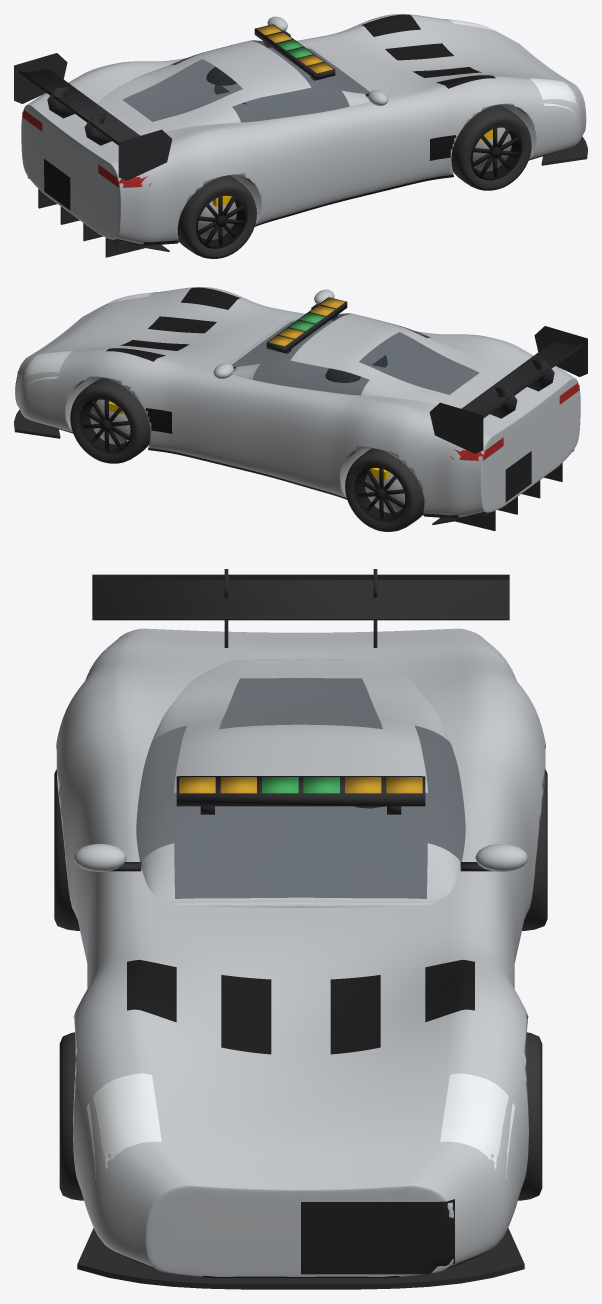
The model's file is safety_car_amg_gt_black_series.glb.
3 renders of one model, top to bottom at view 1: azimuth 30°, elevation 25°; view 2: azimuth 150°, elevation 25°; view 3: azimuth 270°, elevation 25°, orthographic. The views are drawn at different scales.
Visible parts, largest first — view 1: body, cabin, bumper_rear, wing_rear, wheel_fr_spin, wheel_rr_spin, bumper_front, light_bar, diffuser, splitter, interior; view 2: body, cabin, bumper_rear, wing_rear, wheel_fl_spin, wheel_rl_spin, bumper_front, light_bar, diffuser, splitter, interior; view 3: body, bumper_front, cabin, wing_rear, bumper_rear, light_bar, splitter, wheel_fl_spin, wheel_fr_spin, wheel_rl_spin, wheel_rr_spin, mirror_l (+1 smaller).
Boxes of the visible parts, left/top/right/bottom form: body: left=68, top=14, right=550, bottom=244; cabin: left=97, top=40, right=372, bottom=134; bumper_rear: left=21, top=93, right=165, bottom=245; wing_rear: left=14, top=53, right=172, bottom=180; wheel_fr_spin: left=451, top=105, right=531, bottom=190; wheel_rr_spin: left=177, top=175, right=256, bottom=258; bumper_front: left=452, top=19, right=586, bottom=154; light_bar: left=254, top=24, right=335, bottom=80; diffuser: left=27, top=177, right=169, bottom=257; splitter: left=541, top=136, right=587, bottom=165; interior: left=206, top=67, right=246, bottom=104; body: left=51, top=287, right=533, bottom=517; cabin: left=229, top=313, right=504, bottom=407; bumper_rear: left=436, top=366, right=580, bottom=518; wing_rear: left=429, top=326, right=587, bottom=453; wheel_fl_spin: left=70, top=378, right=150, bottom=463; wheel_rl_spin: left=345, top=448, right=424, bottom=531; bumper_front: left=15, top=292, right=149, bottom=427; light_bar: left=266, top=297, right=347, bottom=353; diffuser: left=432, top=450, right=574, bottom=530; splitter: left=14, top=409, right=60, bottom=438; interior: left=325, top=355, right=387, bottom=382; body: left=56, top=654, right=545, bottom=1195; bumper_front: left=79, top=1081, right=522, bottom=1277; cabin: left=136, top=659, right=465, bottom=907; wing_rear: left=92, top=569, right=509, bottom=647; bumper_rear: left=85, top=628, right=516, bottom=680; light_bar: left=176, top=776, right=425, bottom=814; splitter: left=77, top=1228, right=524, bottom=1289; wheel_fl_spin: left=518, top=1032, right=542, bottom=1200; wheel_fr_spin: left=59, top=1032, right=83, bottom=1200; wheel_rl_spin: left=522, top=769, right=547, bottom=930; wheel_rr_spin: left=54, top=769, right=79, bottom=930; mirror_l: left=460, top=844, right=528, bottom=871.
Bounding box in the file's own units: 4.63 × 1.25 × 2.03.
